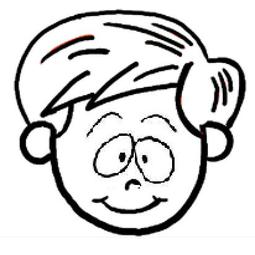ear: (15, 119, 57, 168), (199, 119, 236, 164)
eye: (91, 128, 133, 180), (134, 136, 176, 183)
eyebrow: (80, 109, 125, 141), (137, 111, 179, 135)
mouth: (88, 192, 171, 215)
nose: (121, 177, 145, 193)
